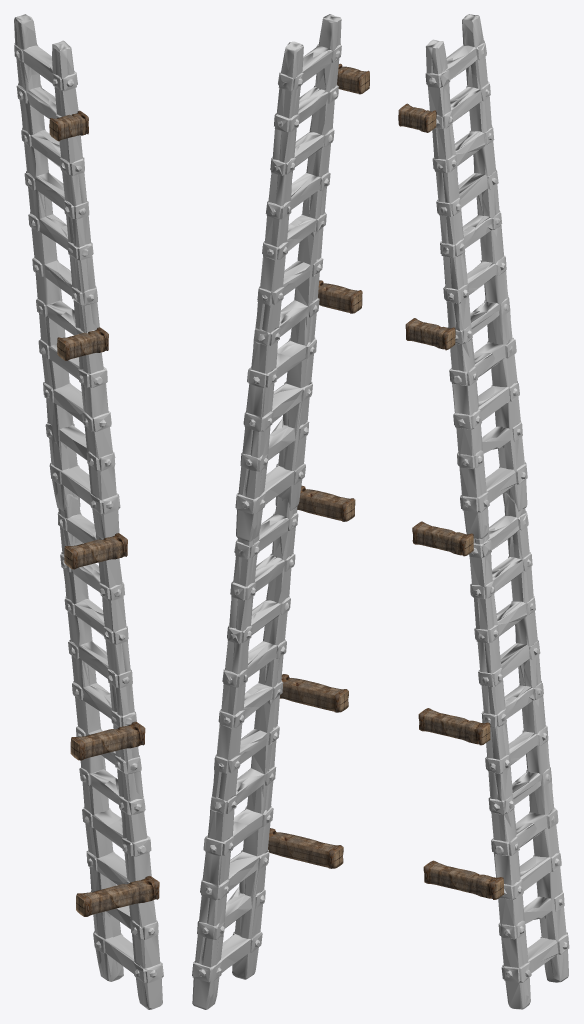
Rendered from Ladder.fbx.
3 renders of one model, left to right at view 1: azimuth 30°, elevation 25°; view 2: azimuth 150°, elevation 25°; view 3: azimuth 330°, elevation 25°, orthographic. The views are drawn at different scales.
Visible parts, largest first — view 1: 外侧木梯_拼接段2, 外侧木梯_拼接段1, 木梯_固定短梁, 木梯_固定短梁.001, 木梯_固定短梁.002, 木梯_固定短梁.003, 木梯_固定短梁.004; view 2: 外侧木梯_拼接段2, 外侧木梯_拼接段1, 木梯_固定短梁, 木梯_固定短梁.001, 木梯_固定短梁.002, 木梯_固定短梁.003, 木梯_固定短梁.004; view 3: 外侧木梯_拼接段2, 外侧木梯_拼接段1, 木梯_固定短梁, 木梯_固定短梁.001, 木梯_固定短梁.002, 木梯_固定短梁.003, 木梯_固定短梁.004.
Part boxes in pixels (bbox=[...]): 外侧木梯_拼接段2: bbox=[14, 14, 120, 539]; 外侧木梯_拼接段1: bbox=[57, 494, 163, 1009]; 木梯_固定短梁: bbox=[76, 876, 159, 916]; 木梯_固定短梁.001: bbox=[70, 721, 145, 760]; 木梯_固定短梁.002: bbox=[64, 533, 127, 569]; 木梯_固定短梁.003: bbox=[57, 327, 108, 360]; 木梯_固定短梁.004: bbox=[49, 110, 88, 141]; 外侧木梯_拼接段2: bbox=[235, 14, 341, 541]; 外侧木梯_拼接段1: bbox=[192, 496, 298, 1009]; 木梯_固定短梁: bbox=[268, 828, 343, 868]; 木梯_固定短梁.001: bbox=[279, 674, 348, 712]; 木梯_固定短梁.002: bbox=[297, 485, 355, 521]; 木梯_固定短梁.003: bbox=[318, 280, 362, 313]; 木梯_固定短梁.004: bbox=[337, 63, 369, 94]; 外侧木梯_拼接段2: bbox=[425, 14, 527, 539]; 外侧木梯_拼接段1: bbox=[469, 493, 569, 1009]; 木梯_固定短梁: bbox=[423, 860, 504, 899]; 木梯_固定短梁.001: bbox=[418, 708, 490, 745]; 木梯_固定短梁.002: bbox=[412, 521, 473, 556]; 木梯_固定短梁.003: bbox=[405, 318, 455, 350]; 木梯_固定短梁.004: bbox=[398, 103, 436, 132].
Bounding box in the file's own units: 101 × 787 × 94.
